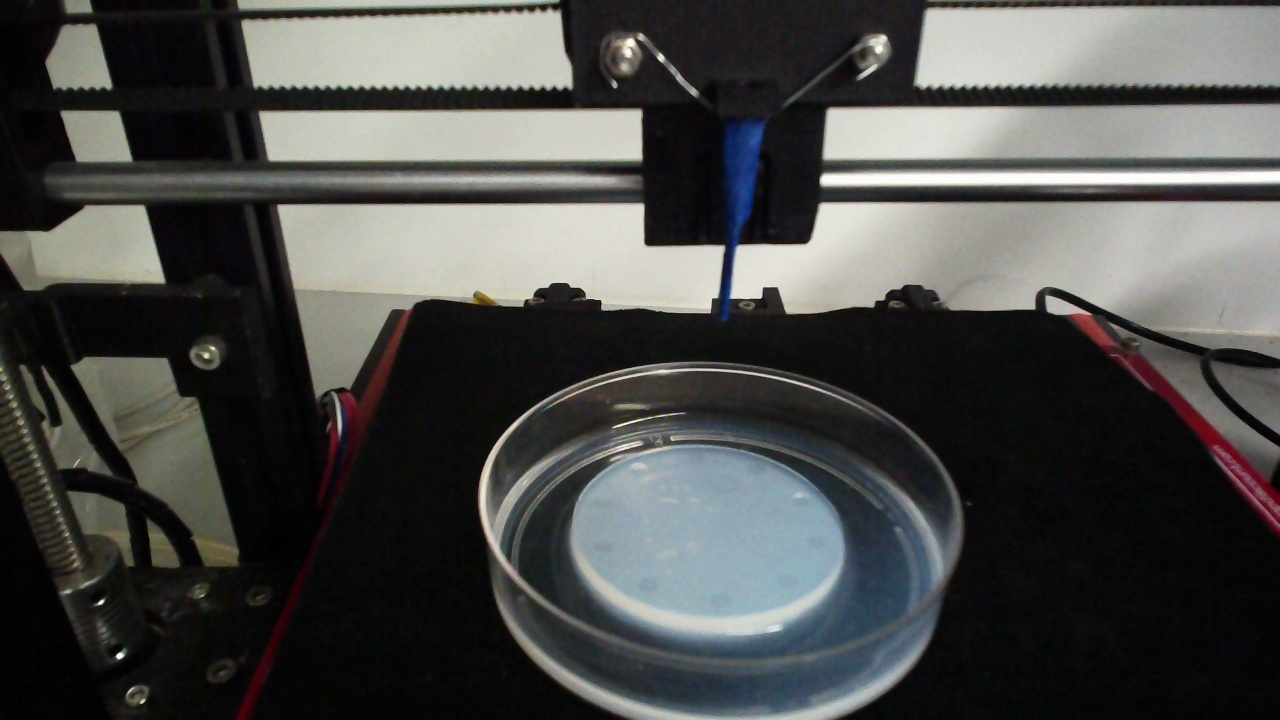groove: (773, 571, 801, 594), (707, 592, 737, 610), (803, 531, 827, 553), (634, 577, 660, 596), (791, 490, 815, 509), (683, 448, 706, 467), (589, 494, 614, 511), (592, 539, 617, 555), (744, 459, 767, 476), (628, 461, 648, 477)
needle: (719, 118, 763, 321)
